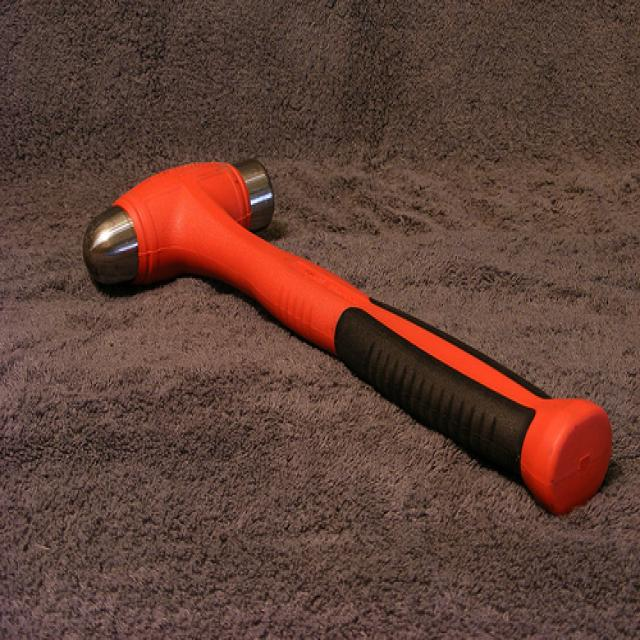hammer: (50, 75, 622, 541)
